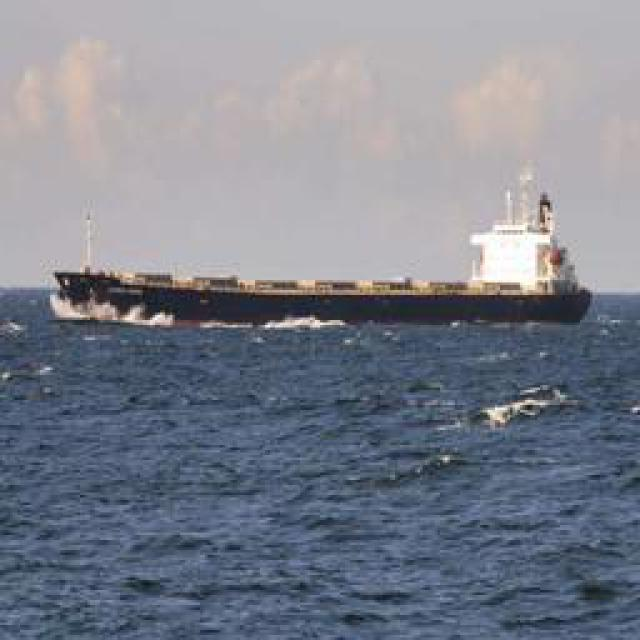Ship: (59, 193, 592, 331)
